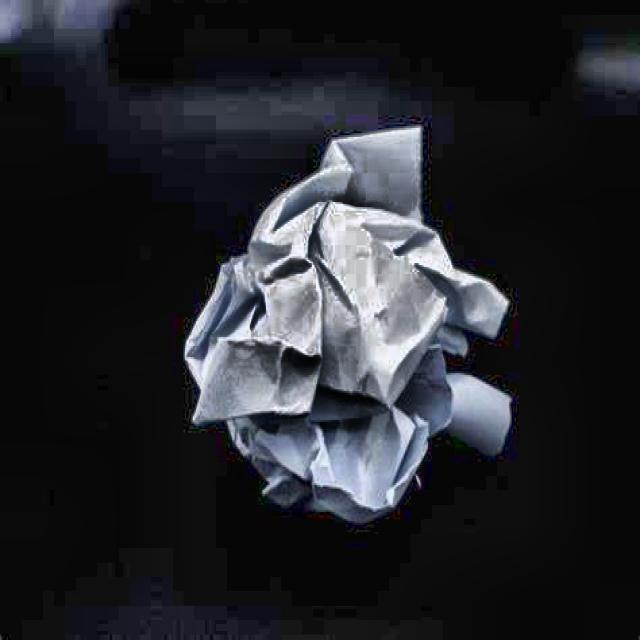Paper: (166, 113, 552, 539)
